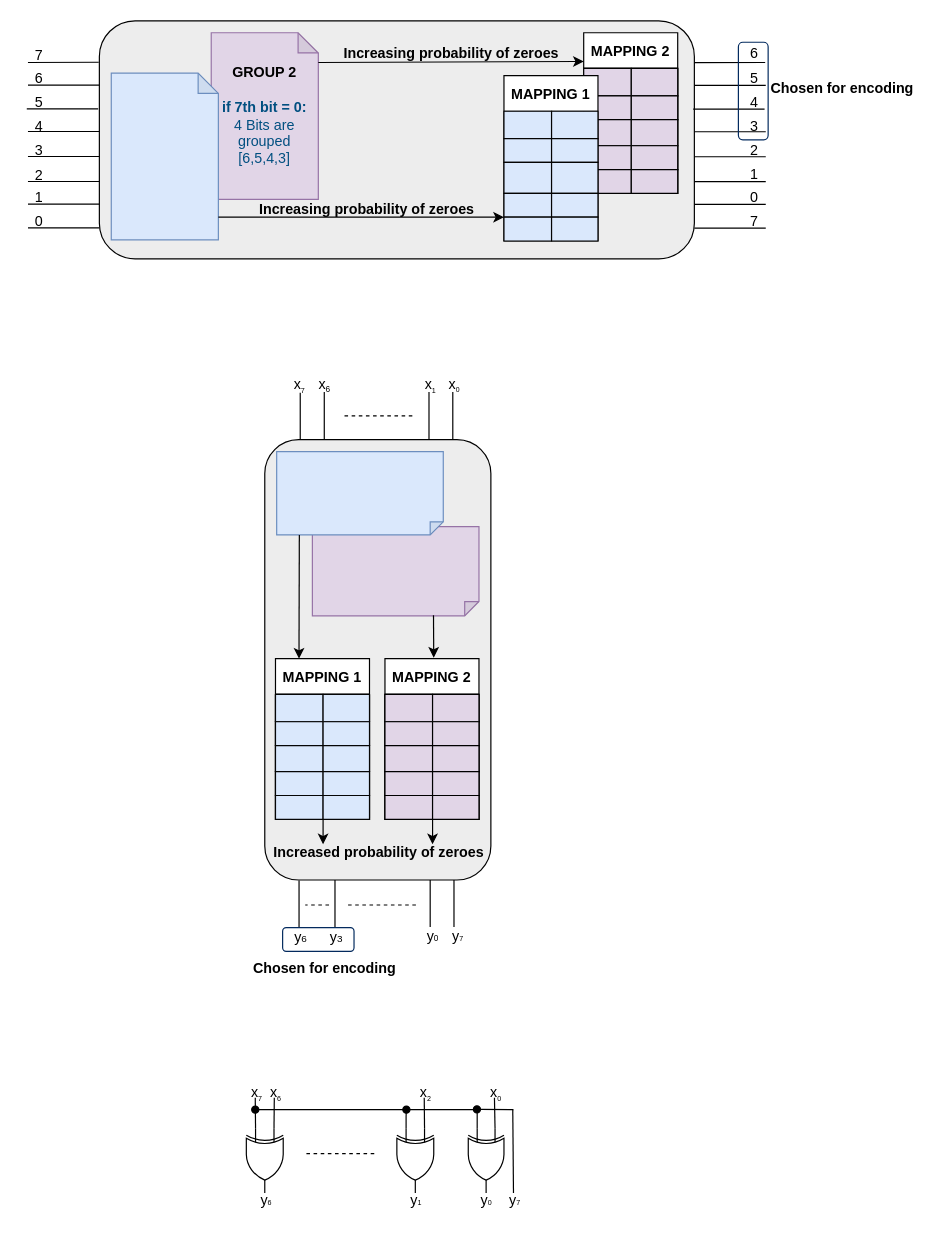
Some shapes in this 945 by 1238 pixel diagram are drawn without their labels. The centre of each missing label's shape, as x and y in pixels:
GROUP 1 if 7th bit = 1: 4 Bits are grouped [6,5,4,3]: (x=164, y=156)
GROUP 1 if x 7 = 1: 4 Bits are grouped [x 6 x 5 x 4 x 3 ]: (x=359, y=492)
GROUP 2 if x 7 = 0: 4 Bits are grouped [x 6 x 5 x 4 x 3 ]: (x=395, y=570)
